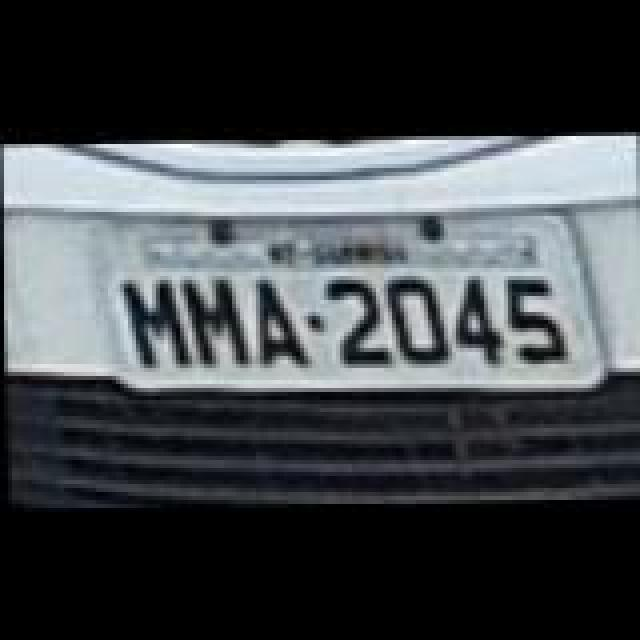2: (322, 272, 398, 368)
4: (442, 278, 510, 366)
5: (502, 272, 578, 360)
A: (242, 274, 310, 366)
D: (384, 272, 456, 364)
M: (116, 270, 196, 366), (178, 274, 254, 370)
